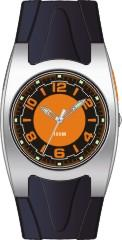watch: (9, 57, 116, 188)
